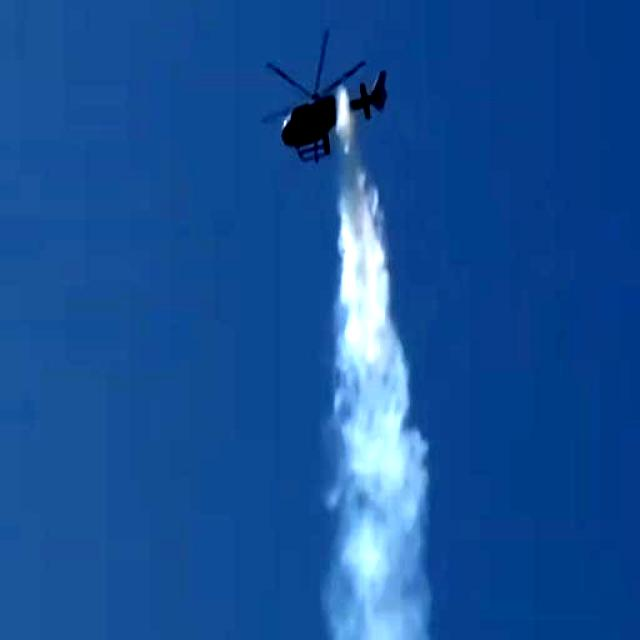drone: (268, 36, 396, 165)
